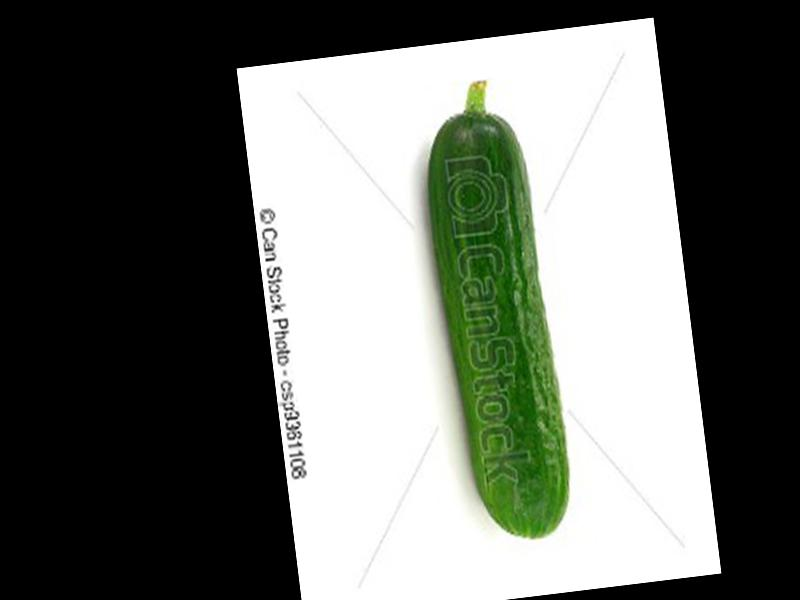Cucumber: (413, 73, 576, 549)
